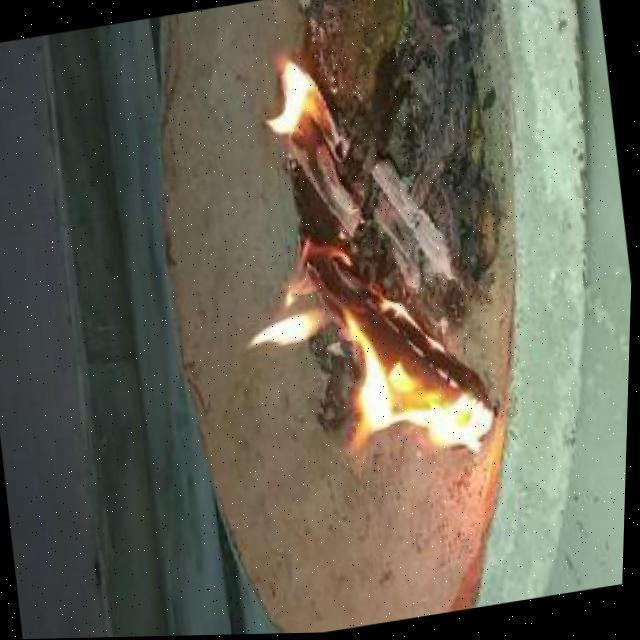fire: (230, 225, 504, 485), (240, 48, 340, 168)
